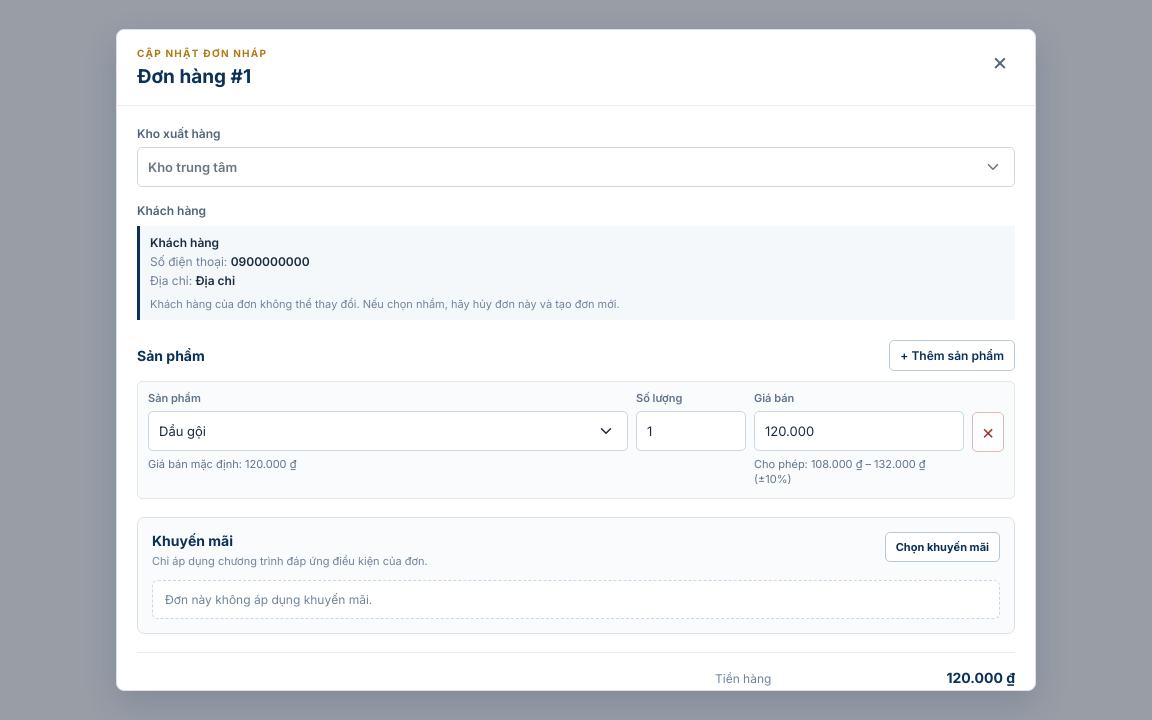
Test case: giá bán chỉ được nhập trong khoảng ±10% và hiện giá mặc định của sản phẩm
The image size is (1152, 720).
Expected: the search field named "Chọn kho xuất hàng" holds "Kho trung tâm", [148,148,978,186]
Expected: the text "Số lượng" is shown, [636,391,682,405]
Replace the text in the field named "giá bán" with "5.000.000": (859, 431) [754,411,964,451]
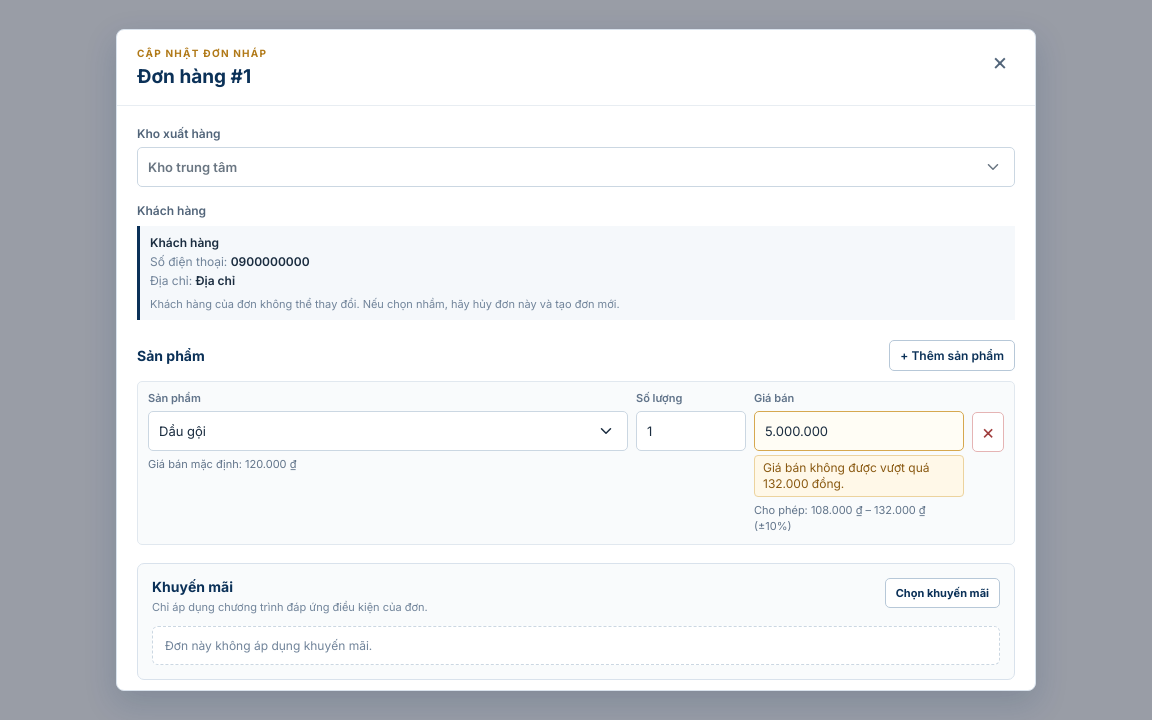
Expected: the text "Giá bán không được vượt quá 132.000 đồng." is shown, [754,455,964,497]
Submit the form
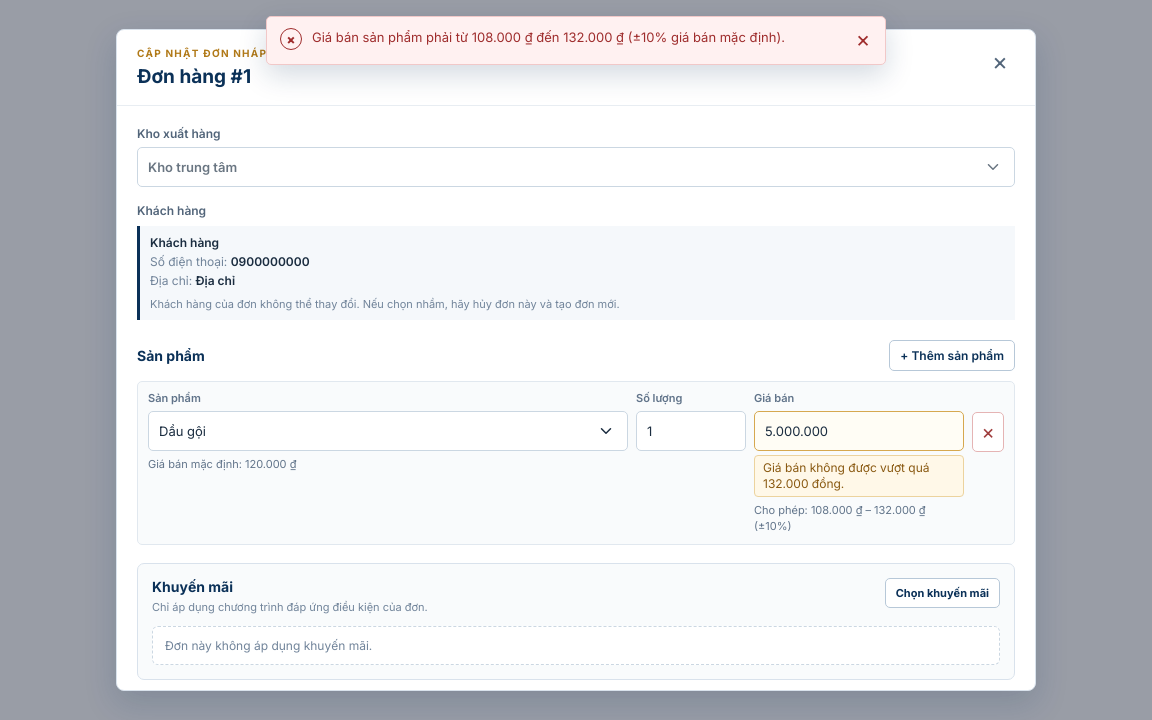
Expected: the text "Giá bán sản phẩm phải từ" is shown, [312,29,785,45]
